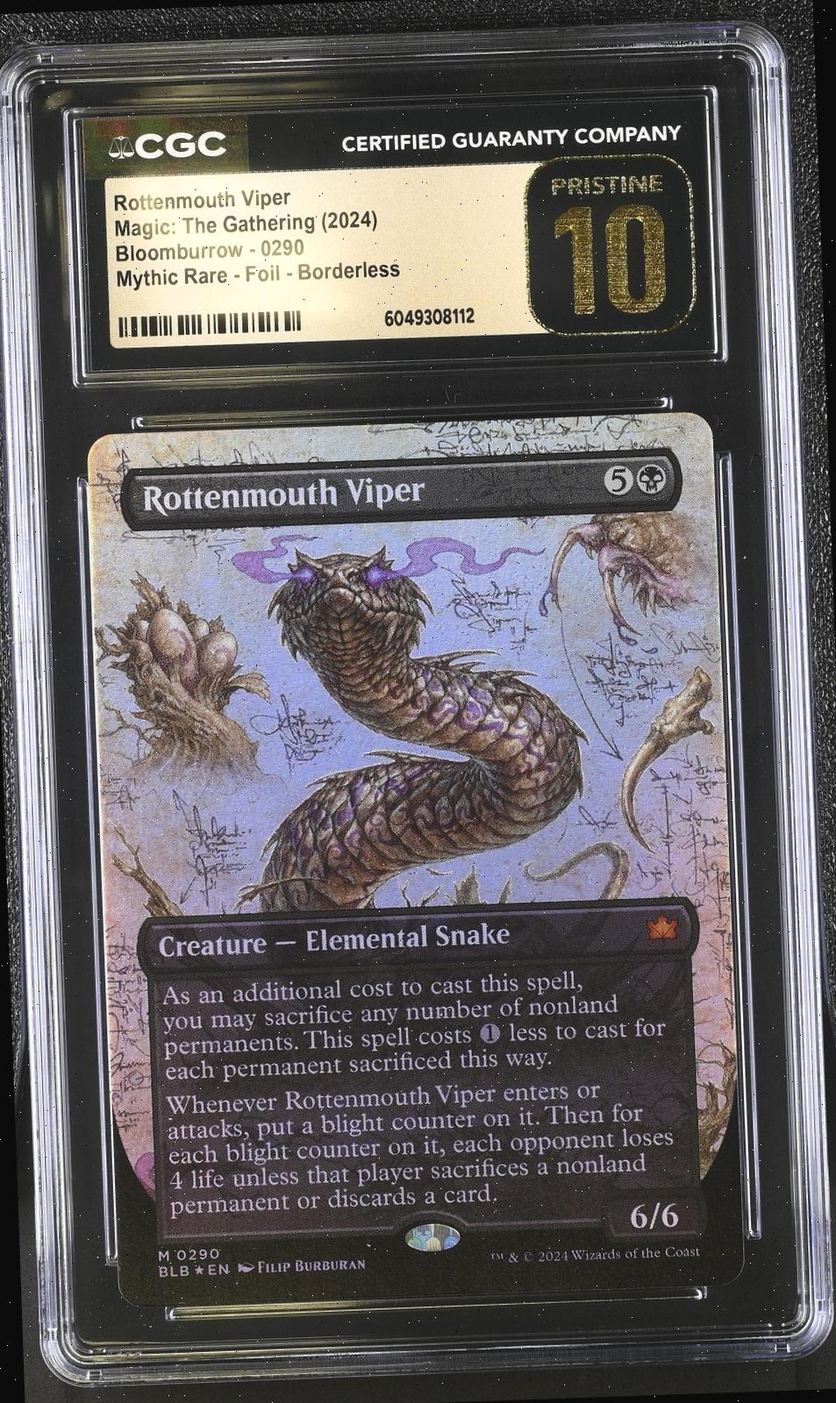card-2UtV: (86, 412, 745, 1308)
